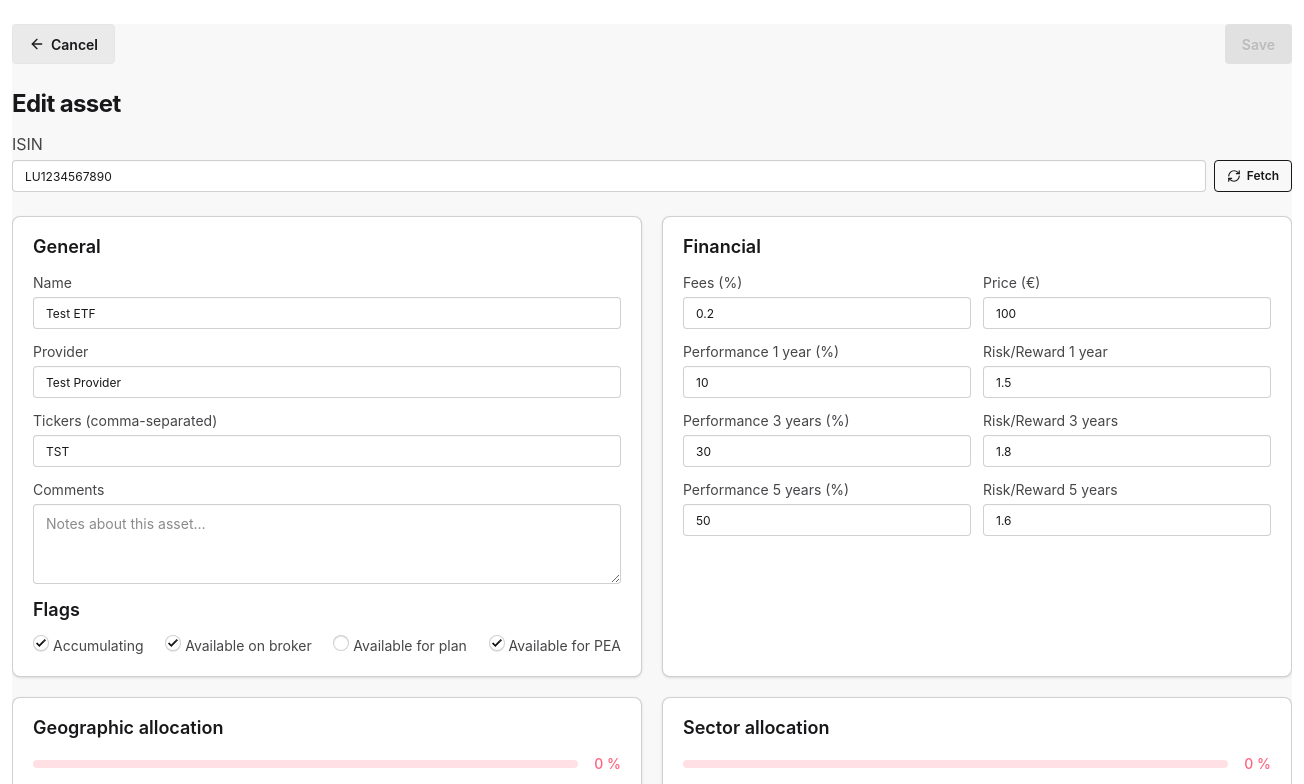
AssetEditPage - form › shows name validation error when saving with empty name
Clear the field with test id "name" at x=327, y=313, box [33, 297, 621, 329]
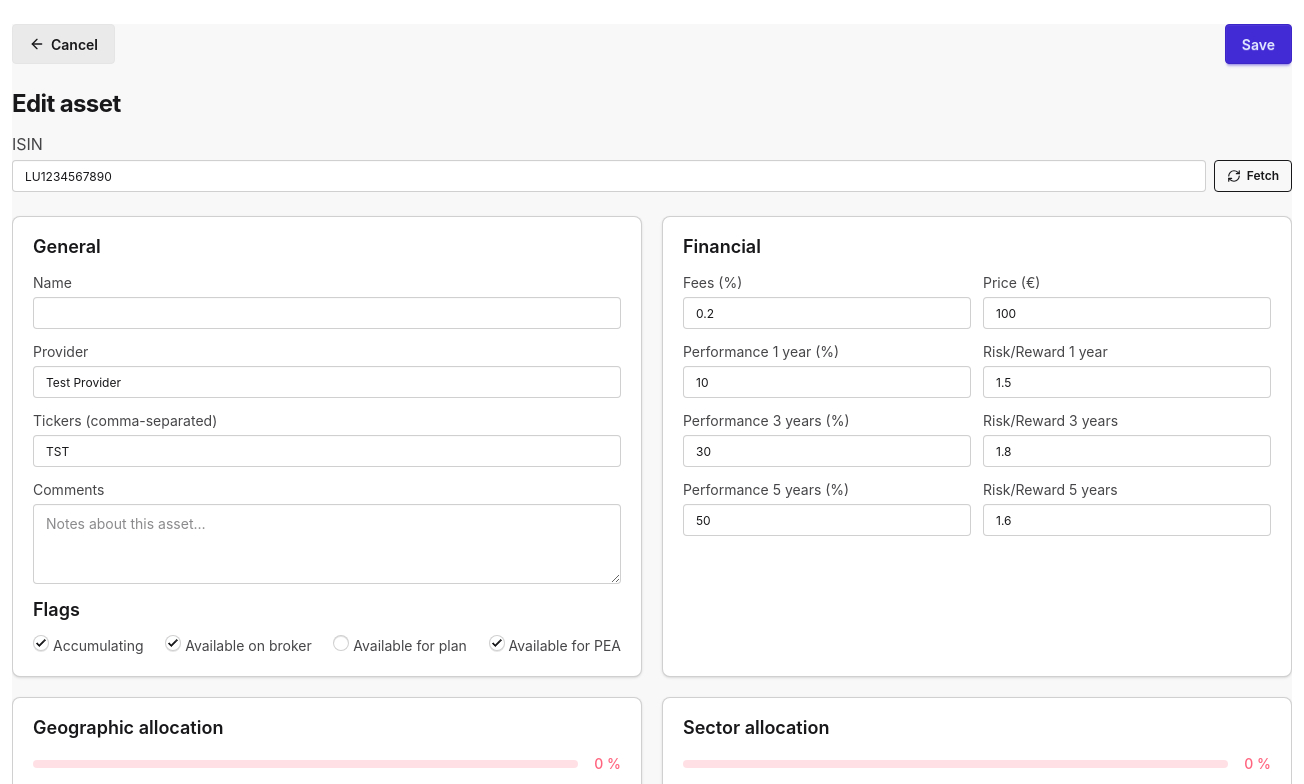
Click the button with test id "save-button" at x=1258, y=44, box [1225, 24, 1292, 64]
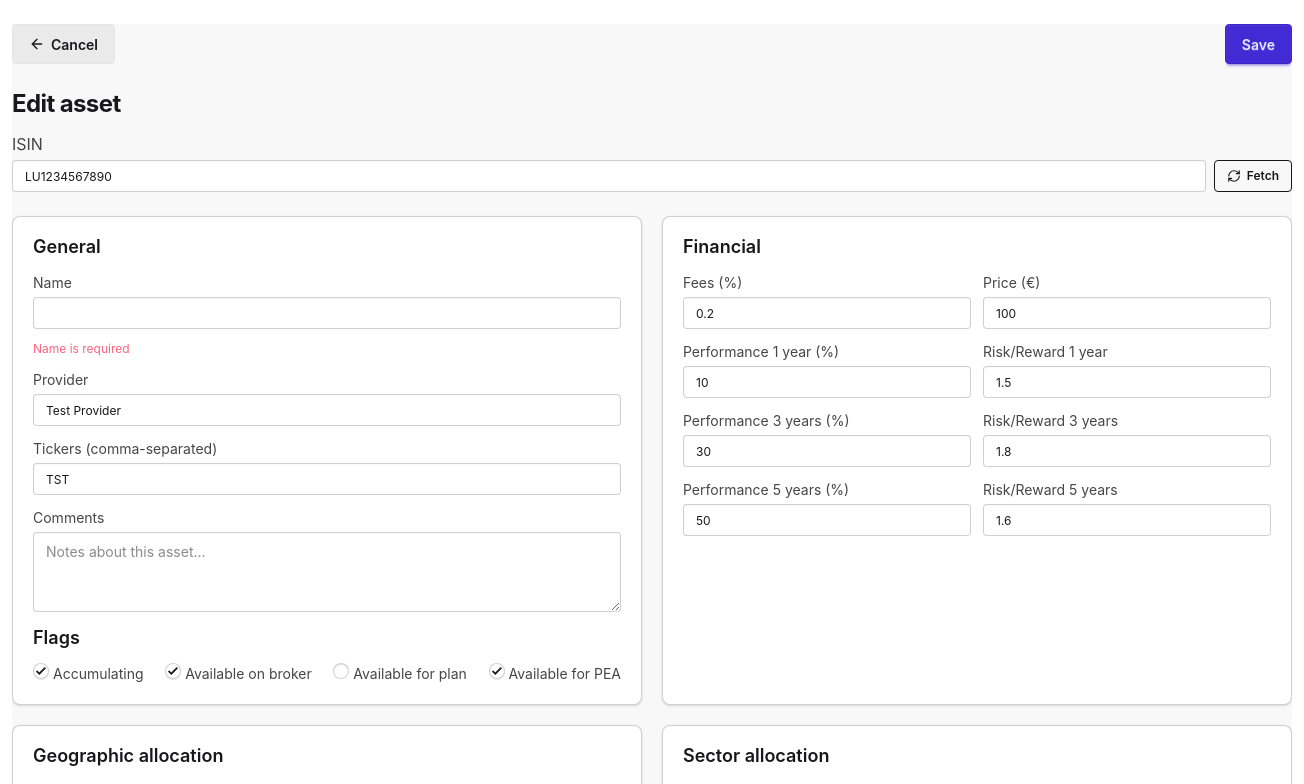
Now the text "Name is required" is shown, box [33, 341, 130, 356]
